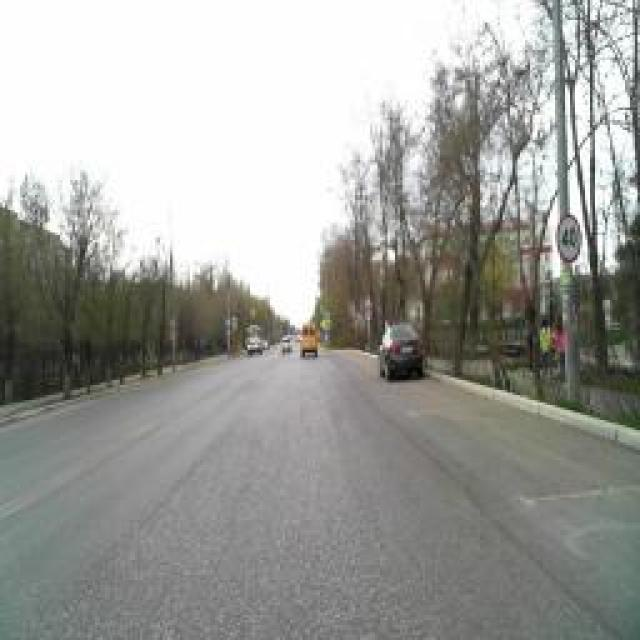sign: (555, 211, 583, 264), (170, 329, 178, 341)
